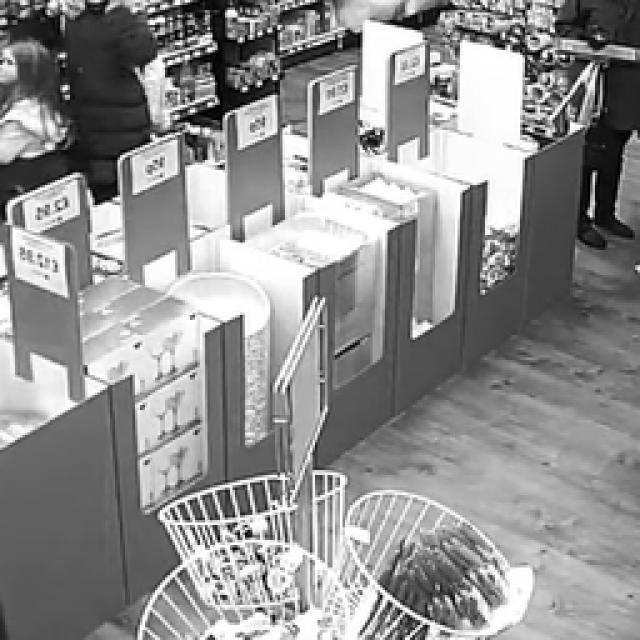Invader: (550, 0, 638, 248), (63, 0, 155, 198), (0, 35, 71, 164)
